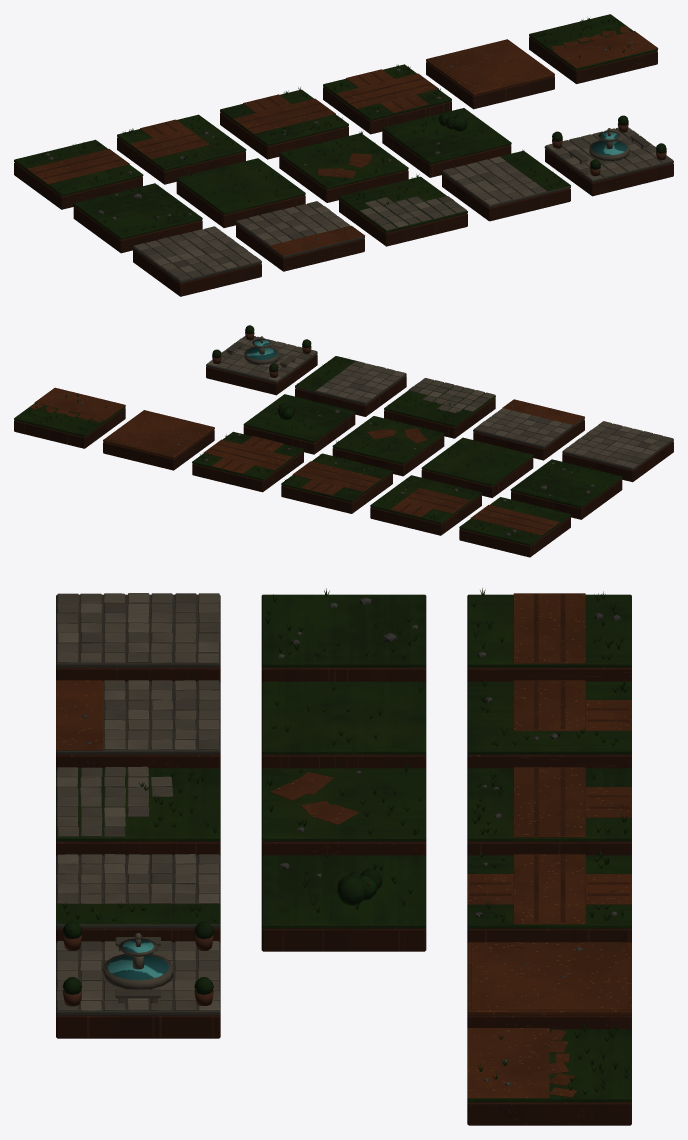
Rendered from Jalan.fbx.
3 renders of one model, top to bottom at view 1: azimuth 30°, elevation 25°; view 2: azimuth 150°, elevation 25°; view 3: azimuth 270°, elevation 25°, orthographic. The views are drawn at different scales.
Parts seen in each view (by area): view 1: J_Plaza_Fountain.001, J_Plaza_GrassVerge.001, J_Plaza_Full.001, J_Plaza_DirtEdge.001, J_Road_ToGrass.001, J_Plaza_ToGrass.001, J_Road_Full.001, J_Road_T.001, J_Road_Cross.001, J_Road_L.001, J_Grass_Patchy.001, J_Road_Straight.001 (+3 smaller); view 2: J_Plaza_Fountain.001, J_Road_ToGrass.001, J_Road_Cross.001, J_Road_Straight.001, J_Road_T.001, J_Road_Full.001, J_Road_L.001, J_Plaza_GrassVerge.001, J_Plaza_DirtEdge.001, J_Plaza_Full.001, J_Plaza_ToGrass.001, J_Grass_Patchy.001 (+3 smaller); view 3: J_Plaza_Fountain.001, J_Road_ToGrass.001, J_Grass_Shrub.001, J_Road_Cross.001, J_Grass_Rocks.001, J_Grass_Patchy.001, J_Grass_Plain.001, J_Plaza_DirtEdge.001, J_Road_Straight.001, J_Road_L.001, J_Plaza_Full.001, J_Road_T.001 (+3 smaller).
Boxes of the visible parts, box(x1,y1,x2,y2) form: J_Plaza_Fountain.001: box(544, 115, 673, 196); J_Plaza_GrassVerge.001: box(441, 149, 570, 221); J_Plaza_Full.001: box(133, 226, 261, 296); J_Plaza_DirtEdge.001: box(236, 201, 364, 271); J_Road_ToGrass.001: box(529, 14, 658, 83); J_Plaza_ToGrass.001: box(339, 174, 467, 246); J_Road_Full.001: box(426, 39, 554, 109); J_Road_T.001: box(220, 87, 348, 159); J_Road_Cross.001: box(323, 64, 451, 134); J_Road_L.001: box(117, 114, 246, 184); J_Grass_Patchy.001: box(279, 131, 408, 202); J_Road_Straight.001: box(14, 139, 143, 209); J_Plaza_Fountain.001: box(206, 325, 317, 395); J_Road_ToGrass.001: box(14, 387, 125, 448); J_Road_Cross.001: box(192, 431, 303, 492); J_Road_Straight.001: box(459, 497, 570, 557); J_Road_T.001: box(281, 453, 392, 513); J_Road_Full.001: box(103, 410, 214, 470); J_Road_L.001: box(370, 475, 481, 535); J_Plaza_GrassVerge.001: box(295, 356, 406, 416); J_Plaza_DirtEdge.001: box(473, 399, 584, 460); J_Plaza_Full.001: box(562, 421, 673, 482); J_Plaza_ToGrass.001: box(384, 378, 495, 438); J_Grass_Patchy.001: box(332, 416, 444, 476); J_Plaza_Fountain.001: box(56, 921, 220, 1038); J_Road_ToGrass.001: box(467, 1024, 631, 1125); J_Grass_Shrub.001: box(261, 851, 426, 951); J_Road_Cross.001: box(467, 849, 631, 942); J_Grass_Rocks.001: box(261, 588, 426, 682); J_Grass_Patchy.001: box(261, 765, 426, 855); J_Grass_Plain.001: box(261, 681, 426, 768); J_Plaza_DirtEdge.001: box(56, 680, 220, 769); J_Road_Straight.001: box(467, 588, 631, 682); J_Road_L.001: box(467, 678, 631, 769); J_Plaza_Full.001: box(56, 593, 220, 682); J_Road_T.001: box(467, 767, 631, 855).
Bounding box in the file's own units: 116 × 7.65 × 56.
Materials: 14 (14 with a texture image).
